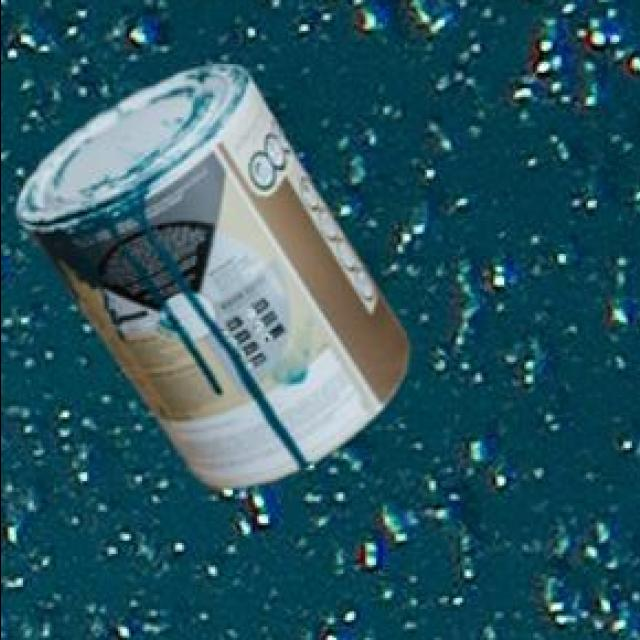logam: (14, 67, 405, 491)
